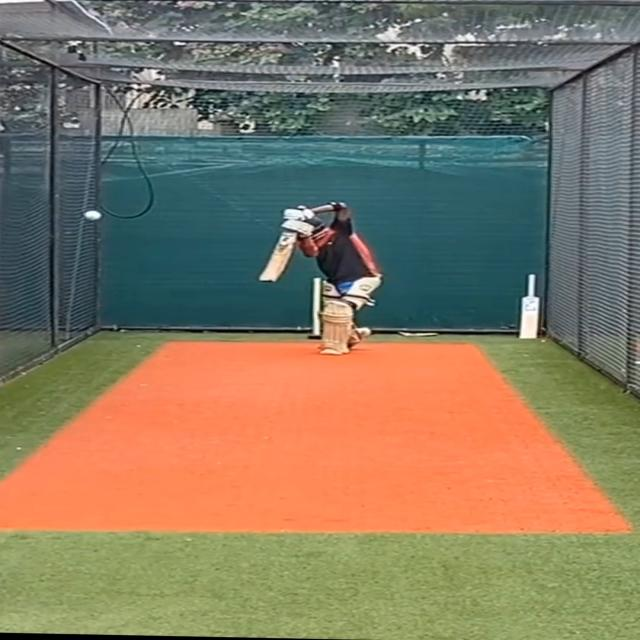ball: (81, 207, 105, 223)
